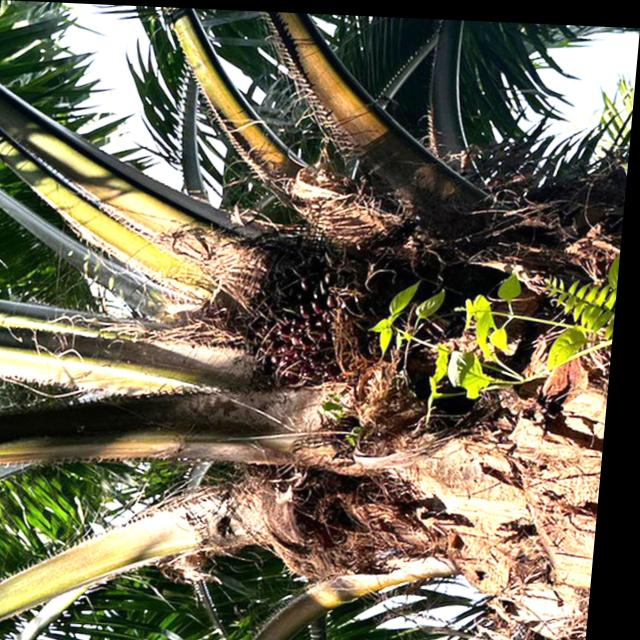unripe: (238, 221, 387, 396)
